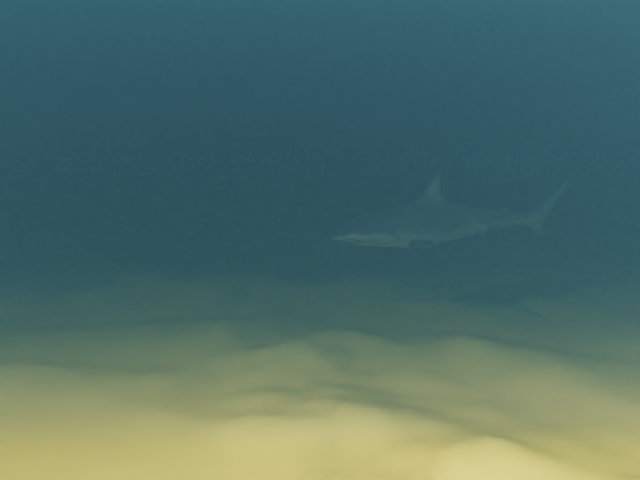Carribean Shark.001: (329, 171, 572, 261)
